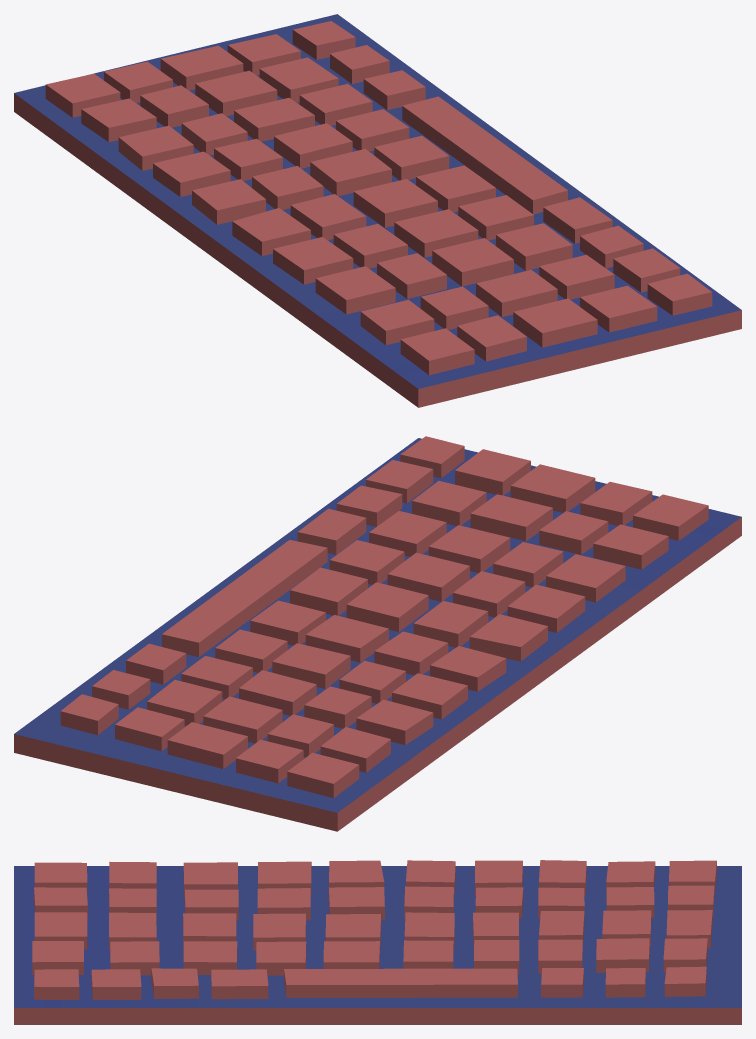
The model's file is Office2_Keyboard.fbx.
3 views of the same model, one above another, from view 1: azimuth 30°, elevation 25°; view 2: azimuth 150°, elevation 25°; view 3: azimuth 270°, elevation 25° (orthographic). The views are drawn at different scales.
Parts seen in each view (by area): view 1: Office2_Keyboard; view 2: Office2_Keyboard; view 3: Office2_Keyboard.
Boxes of the visible parts, x1=… form: Office2_Keyboard: x1=14, y1=14, x2=741, y2=407; Office2_Keyboard: x1=14, y1=436, x2=741, y2=831; Office2_Keyboard: x1=14, y1=860, x2=741, y2=1024.
Bounding box in the file's own units: 32.45 × 3.19 × 70.25.
